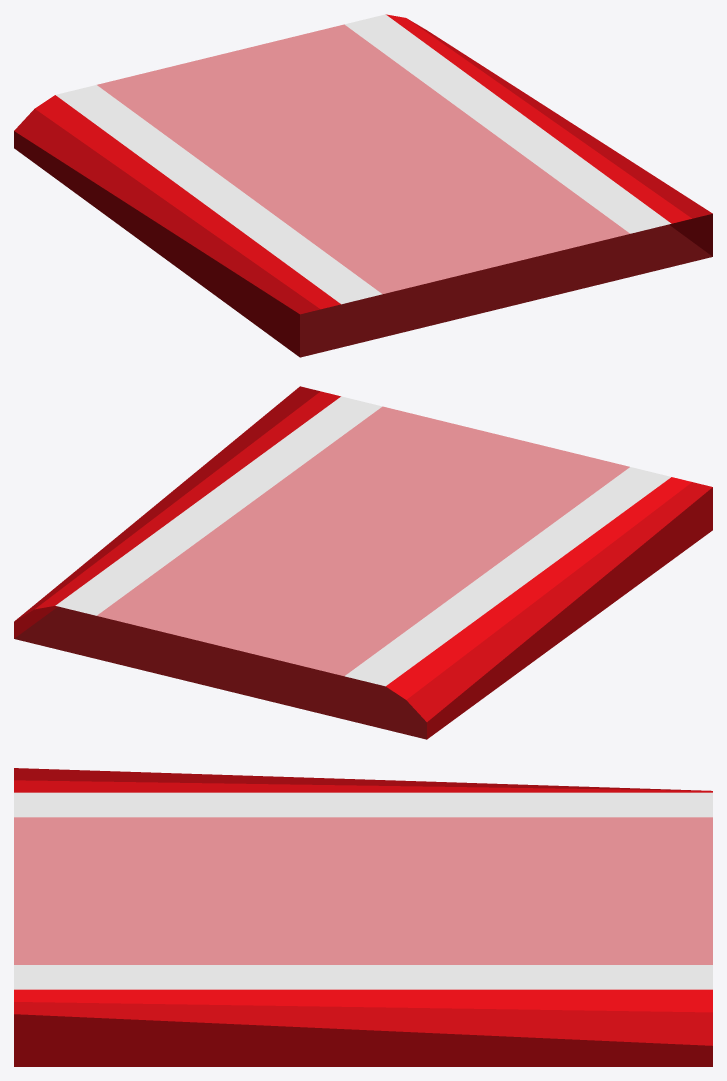
Rendered from straightTr.fbx.
3 views of the same model, one above another, from view 1: azimuth 30°, elevation 25°; view 2: azimuth 150°, elevation 25°; view 3: azimuth 270°, elevation 25° (orthographic). The views are drawn at different scales.
Visible parts, largest first — view 1: StraightTransition; view 2: StraightTransition; view 3: StraightTransition.
Boxes of the visible parts, x1,y1,x2,y2 form: StraightTransition: [14, 14, 712, 357]; StraightTransition: [14, 386, 712, 739]; StraightTransition: [14, 768, 712, 1066].
Size of the model in its own units: 10 by 1 by 12.
